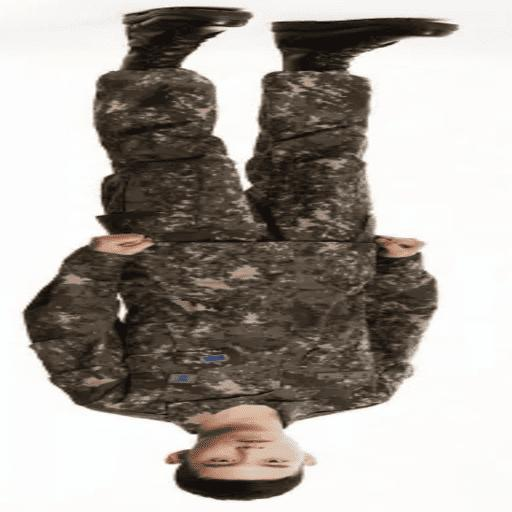korea army: (22, 5, 459, 500)
